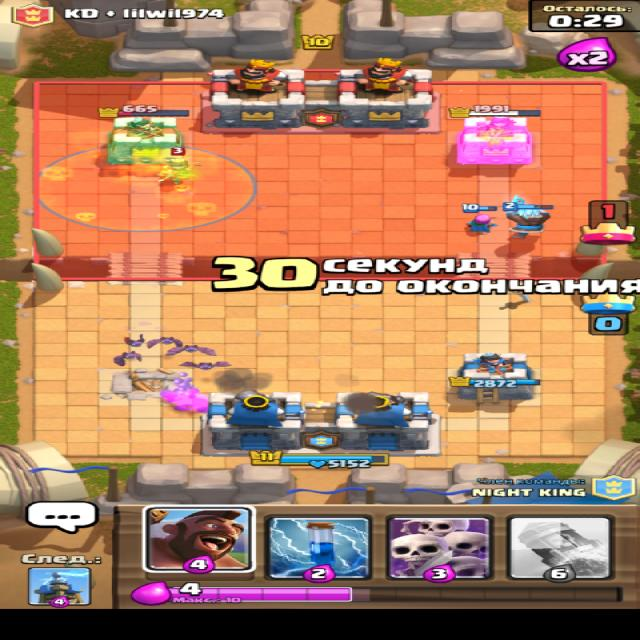Enemy-Princess: (152, 146, 203, 184)
Player-Archer: (457, 202, 499, 234)
Player-Bat: (176, 358, 232, 371), (162, 344, 218, 356), (110, 349, 142, 367), (144, 335, 183, 348), (120, 332, 144, 347)
Player-IceWizard: (500, 194, 553, 240)
